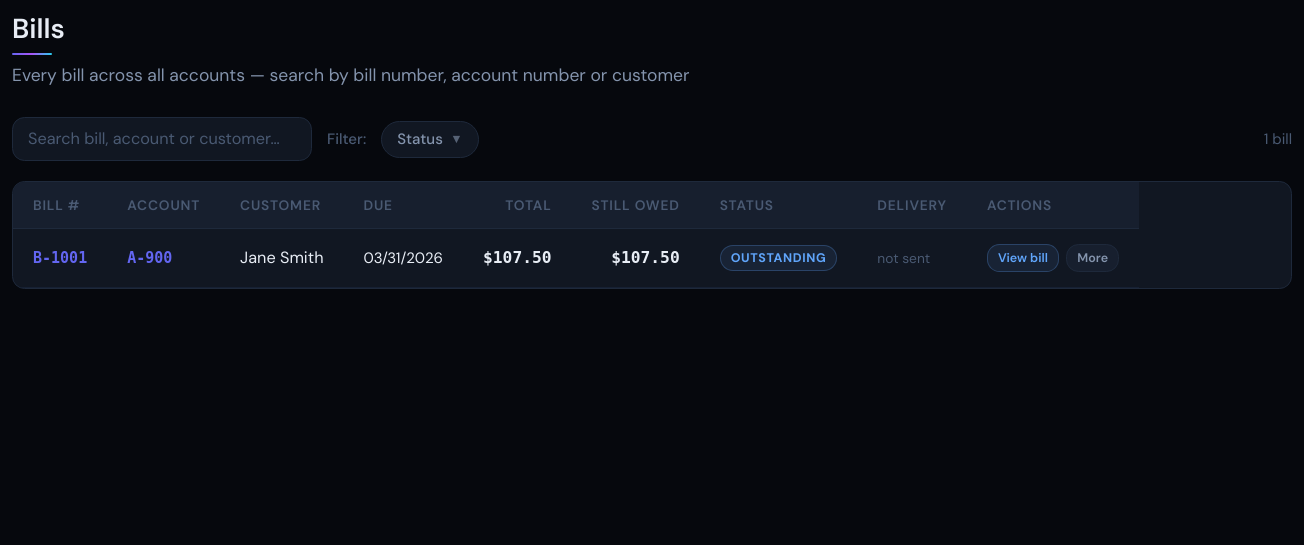
Test: Bills — sending from the list › offers Send behind More for a bill that is ready
Expected: the button "B-1001" is shown, [33,247,87,269]
Expected: the button "send" is not shown
What coordinates should you click on to do the following:
click the button with aria-label "more actions for B-1001"
I would click on:
 (1093, 258)
Its box is [1066,244,1119,272].
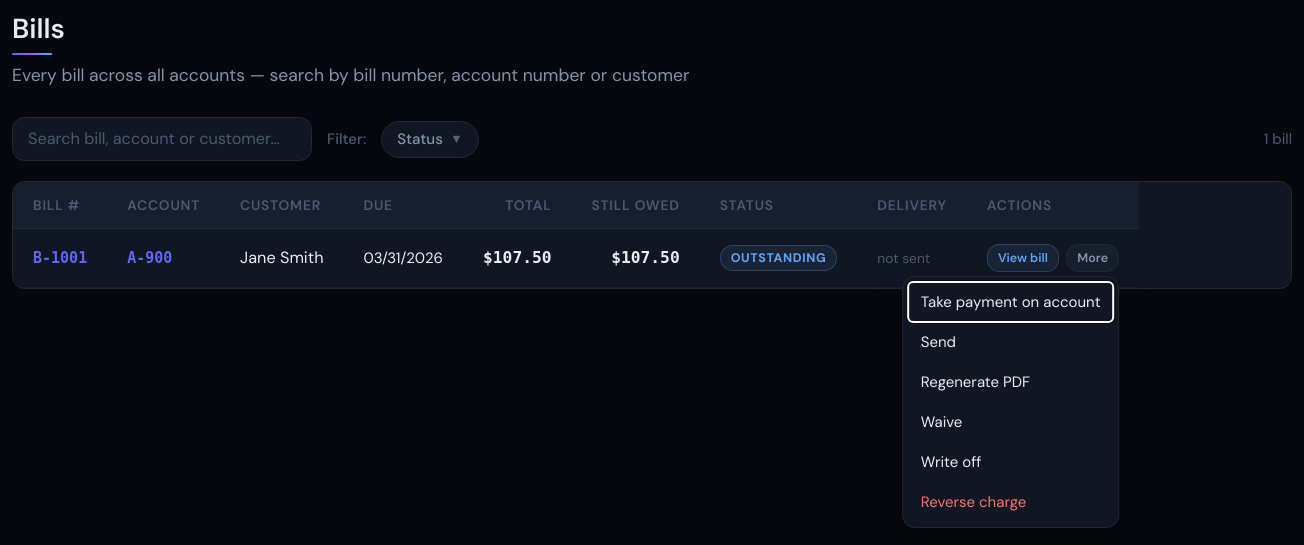
Expected: the menu item "Send" is shown, [908,322,1113,362]
